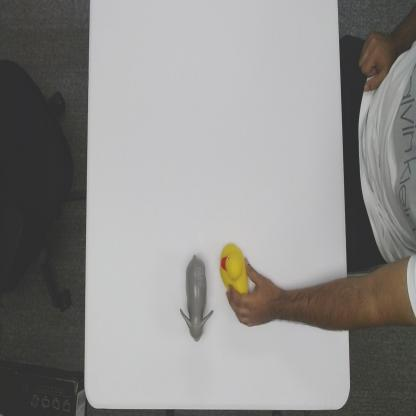Arm: (280, 280, 350, 332)
Duck: (217, 239, 250, 300)
Elephant: (179, 252, 214, 344)
Hand: (227, 256, 277, 327)
